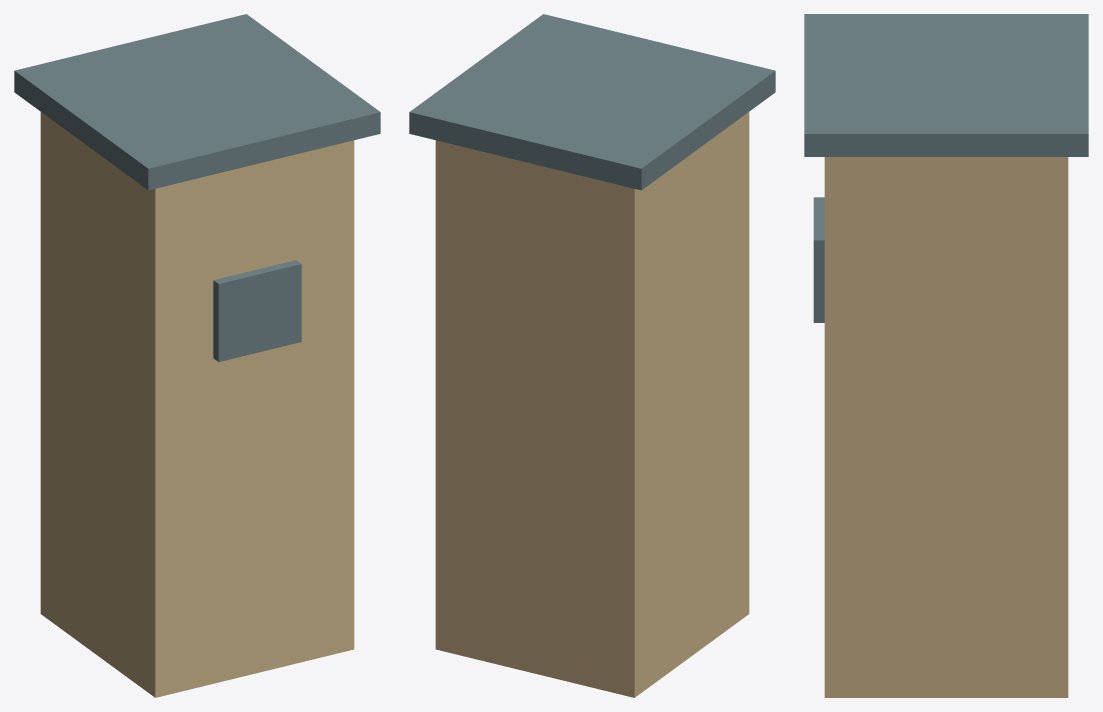
File: clock-tower.source.glb
The picture shows the model from 3 angles, left to right: view 1: azimuth 30°, elevation 25°; view 2: azimuth 150°, elevation 25°; view 3: azimuth 270°, elevation 25°; orthographic projection. The views are drawn at different scales.
Visible parts, largest first — view 1: clock-tower-tower-mesh, clock-tower-roof-mesh, clock-tower-clock-face-mesh; view 2: clock-tower-tower-mesh, clock-tower-roof-mesh; view 3: clock-tower-tower-mesh, clock-tower-roof-mesh, clock-tower-clock-face-mesh.
Boxes of the visible parts, box(x1,y1,x2,y2) form: clock-tower-tower-mesh: box(40, 112, 354, 697); clock-tower-roof-mesh: box(14, 14, 380, 190); clock-tower-clock-face-mesh: box(213, 260, 301, 361); clock-tower-tower-mesh: box(435, 112, 749, 697); clock-tower-roof-mesh: box(409, 14, 775, 190); clock-tower-tower-mesh: box(824, 157, 1068, 697); clock-tower-roof-mesh: box(804, 14, 1088, 156); clock-tower-clock-face-mesh: box(813, 197, 824, 322).
Bounding box in the file's own units: 2.8 × 6.22 × 2.8.
